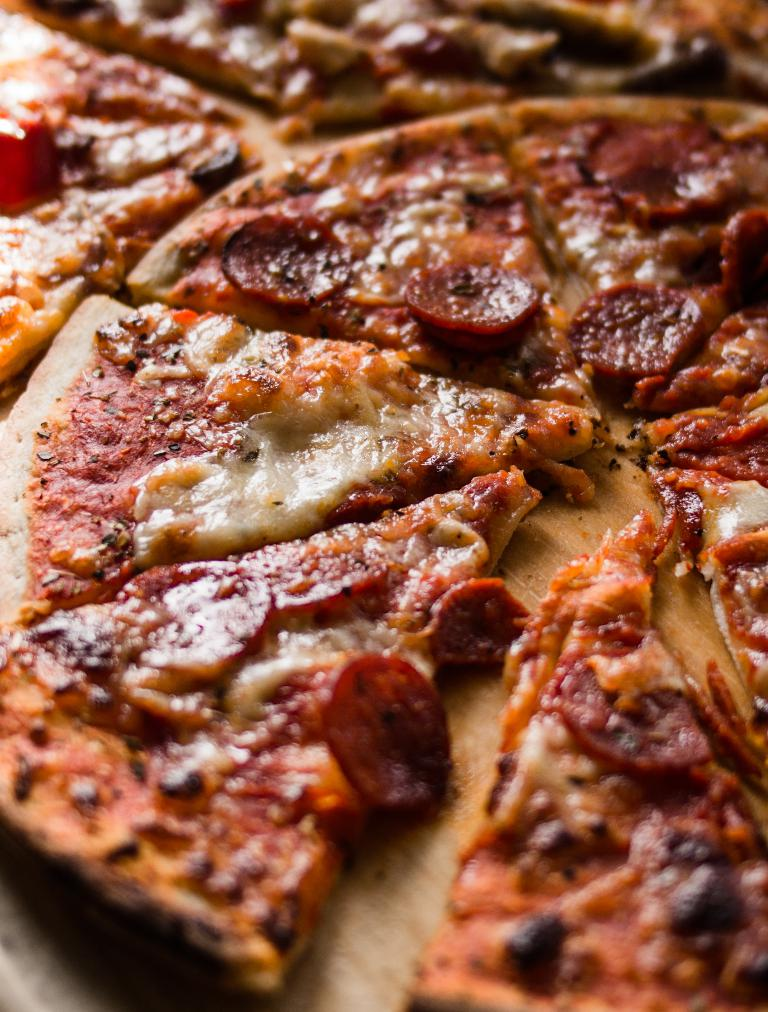Pizza: (0, 0, 768, 1001)
